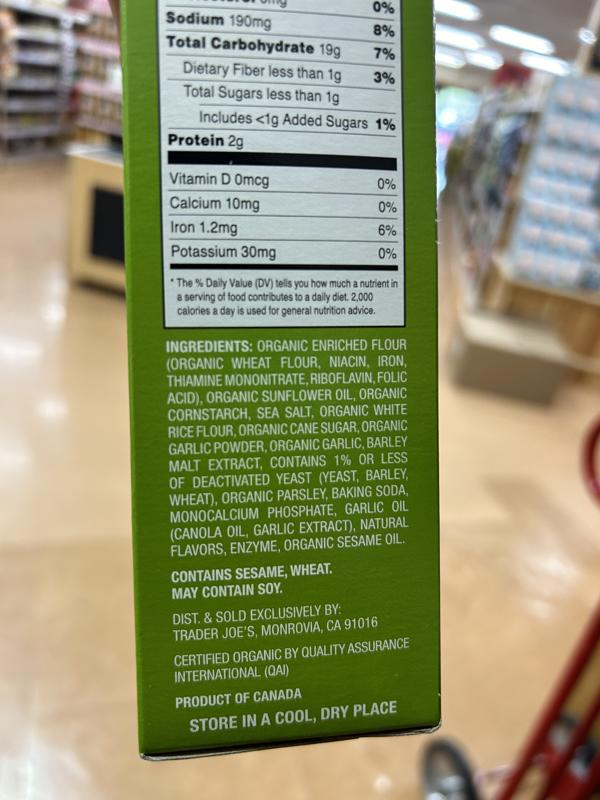ingredients: (160, 335, 414, 560)
